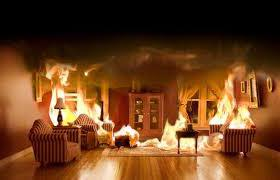fire: (37, 62, 111, 145), (143, 111, 203, 156), (208, 79, 256, 135)
